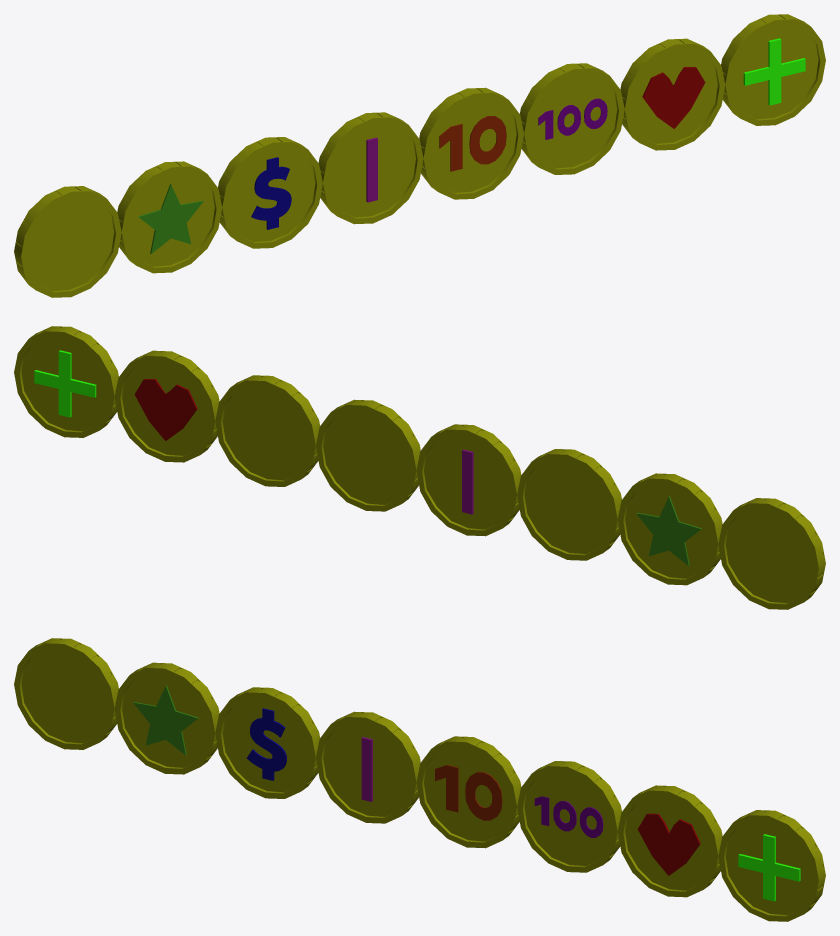
File: uploads_files_1847324_Coins.obj
3 renders of one model, top to bottom at view 1: azimuth 30°, elevation 25°; view 2: azimuth 150°, elevation 25°; view 3: azimuth 330°, elevation 25°, orthographic.
Visible parts, largest first — view 1: Coins:polySurface1; view 2: Coins:polySurface1; view 3: Coins:polySurface1.
Part boxes in pixels (x1,y1,x2,y2): Coins:polySurface1: (14,14,825,297); Coins:polySurface1: (14,326,825,609); Coins:polySurface1: (14,638,825,921).
Size of the model in its own units: 16 by 2 by 0.2435.
